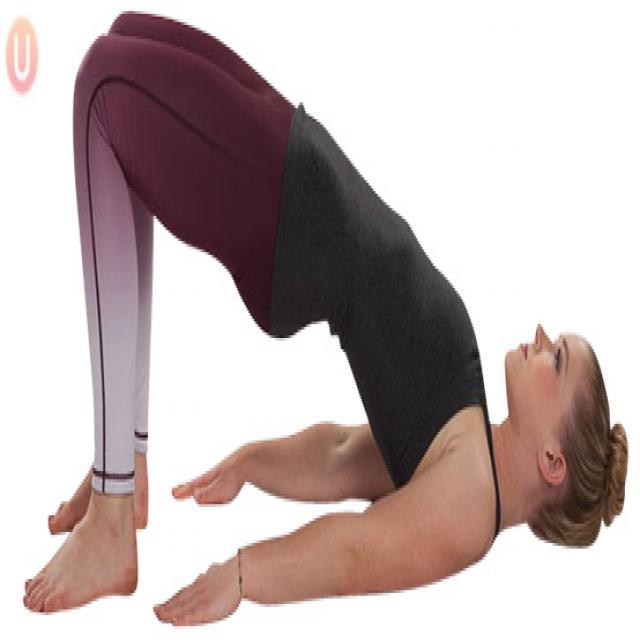yoga-pose bridge: (45, 15, 612, 622)
